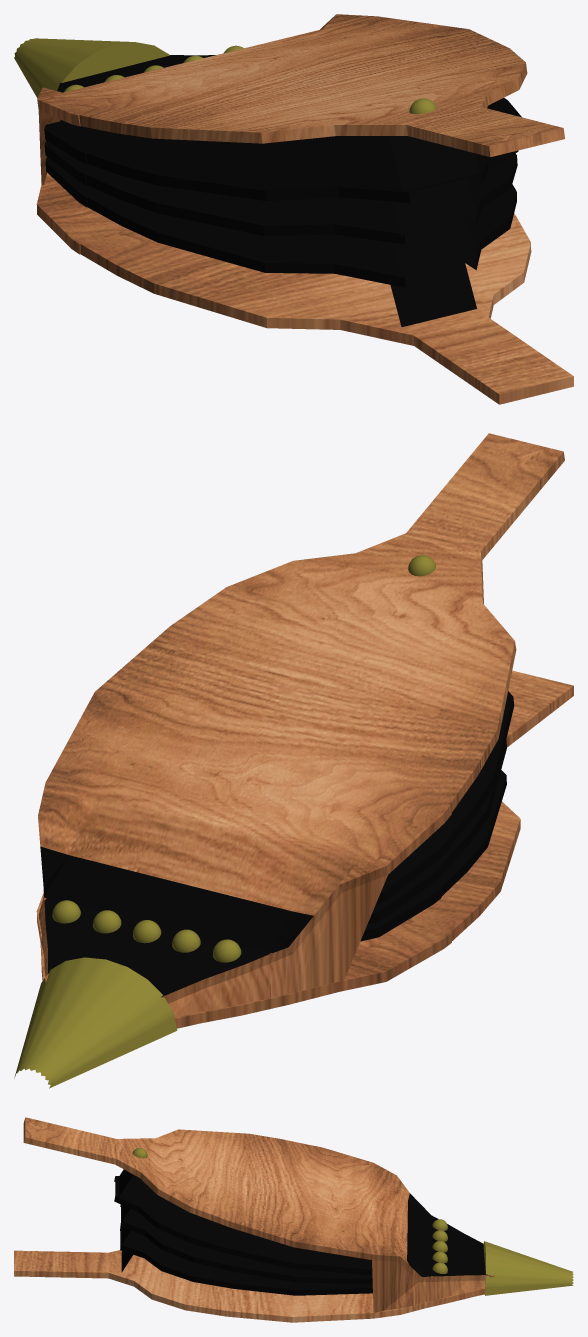
Rendered from fireplace_bellow_open.fbx.
The picture shows the model from 3 angles, top to bottom: view 1: azimuth 30°, elevation 25°; view 2: azimuth 150°, elevation 25°; view 3: azimuth 270°, elevation 25°; orthographic projection. The views are drawn at different scales.
Parts seen in each view (by area): view 1: pPlane13, pPlane6, pPlane8, pPlane7, pCone2, pPlane12, pPlane9, pPlane10, pPlane11; view 2: pPlane13, pCone2, pPlane6, pPlane8, pPlane7; view 3: pPlane13, pPlane6, pPlane8, pPlane7, pCone2.
Part boxes in pixels (x1,y1,x2,y2): pPlane13: (36,14,573,404); pPlane6: (44,98,521,202); pPlane8: (45,156,516,287); pPlane7: (44,140,517,244); pCone2: (14,38,169,98); pPlane12: (390,263,476,326); pPlane9: (389,136,479,191); pPlane10: (392,178,476,236); pPlane11: (392,221,476,277); pPlane13: (36,433,573,1028); pCone2: (14,957,177,1088); pPlane6: (376,691,514,903); pPlane8: (360,770,506,941); pPlane7: (367,739,506,924); pPlane13: (14,1117,494,1322); pPlane6: (114,1174,372,1275); pPlane8: (120,1226,372,1295); pPlane7: (120,1204,372,1284); pCone2: (483,1241,573,1295).
Bounding box in the file's own units: 90.97 × 64.84 × 214.
4 materials, 1 textured.
